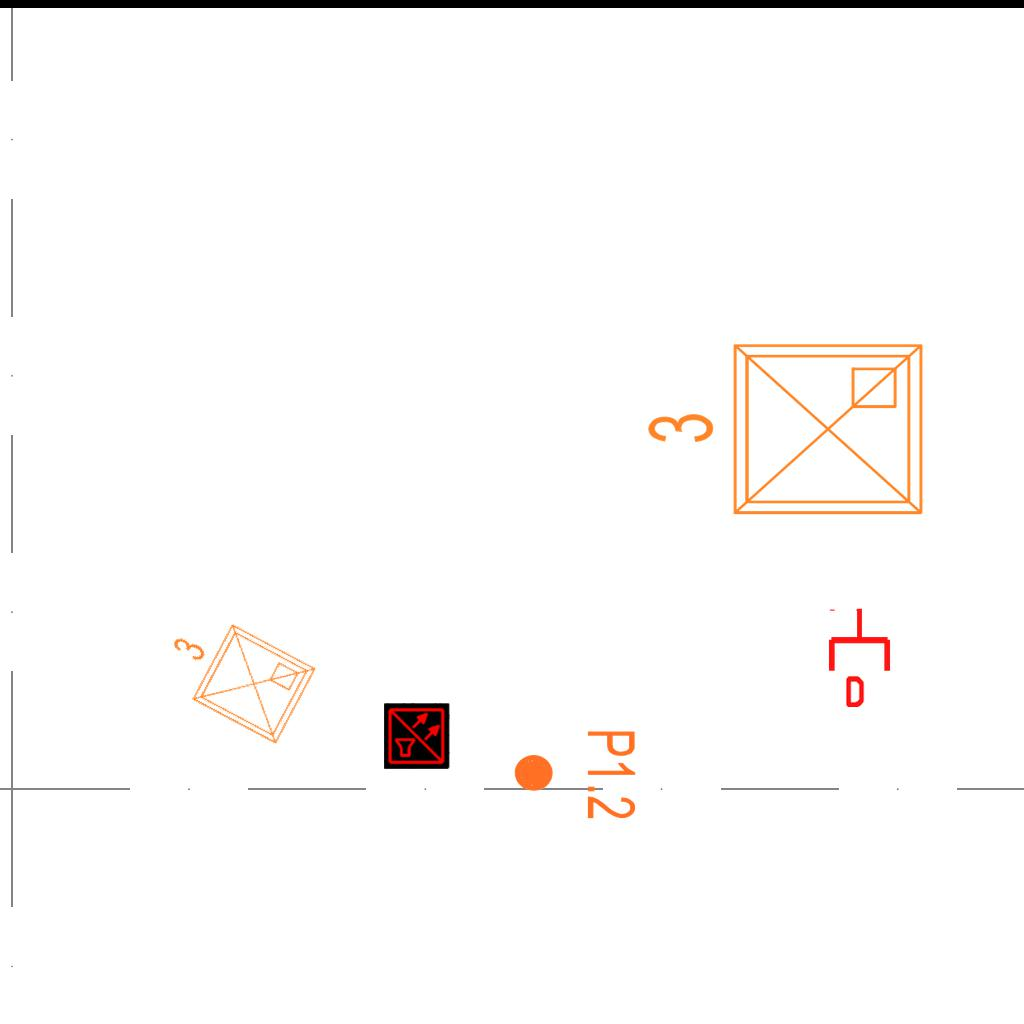Datenanschluss_einfach: (825, 607, 894, 707)
Downlight_LED_Einbauleuchten_Flur: (511, 728, 639, 821)
Einbaudownlights_LED_Konferenzraeume: (637, 329, 937, 537), (144, 594, 326, 758)
OKW_Multisensormelder_(Kombination_optischer_Rauch-Kahlenmonoxid_Waerme-Melder): (384, 703, 450, 769)
